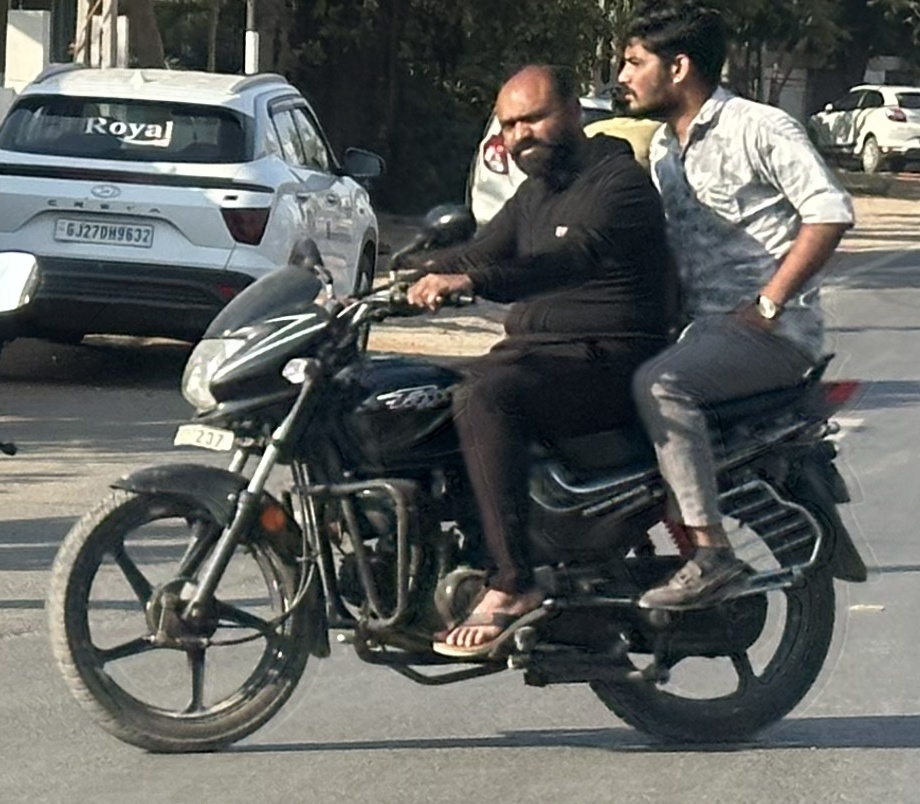BikeWithRider: (40, 3, 880, 763)
NoHelmet: (486, 49, 593, 193), (618, 0, 732, 125)
